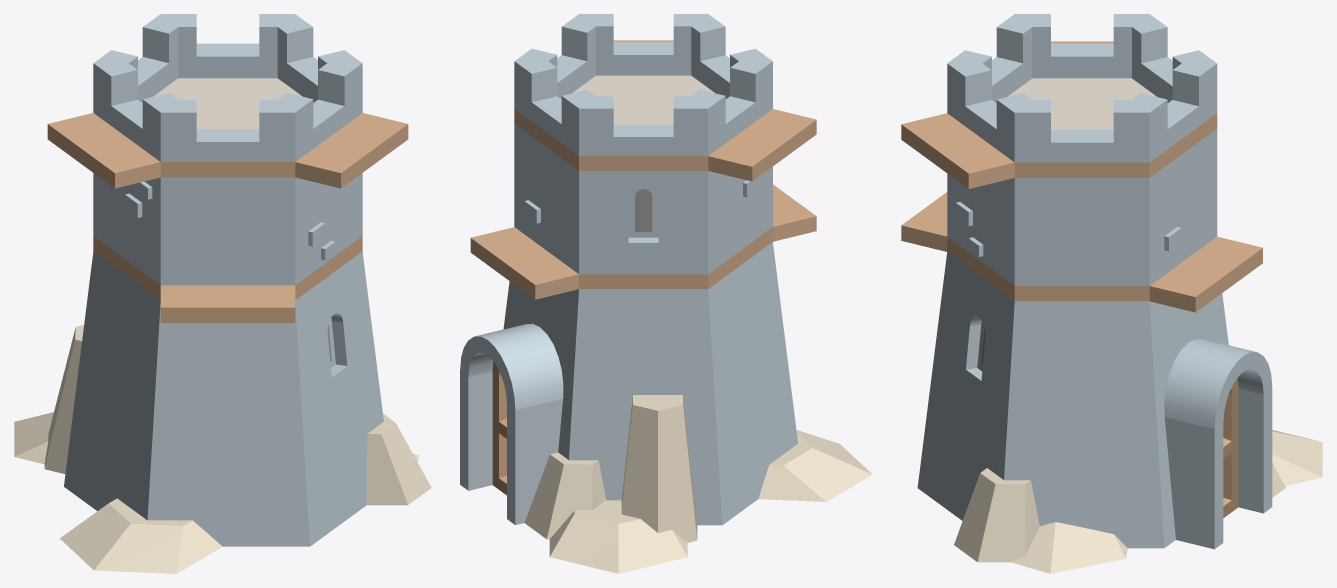
Rendered from tower.gltf.
The picture shows the model from 3 angles, left to right: view 1: azimuth 30°, elevation 25°; view 2: azimuth 150°, elevation 25°; view 3: azimuth 270°, elevation 25°; orthographic projection. The views are drawn at different scales.
Visible parts, largest first — view 1: tower; view 2: tower; view 3: tower.
Part boxes in pixels (bbox=[...]): tower: bbox=[14, 14, 431, 573]; tower: bbox=[460, 14, 872, 573]; tower: bbox=[901, 14, 1322, 573].
Size of the model in its own units: 3.32 by 3.71 by 3.34.
